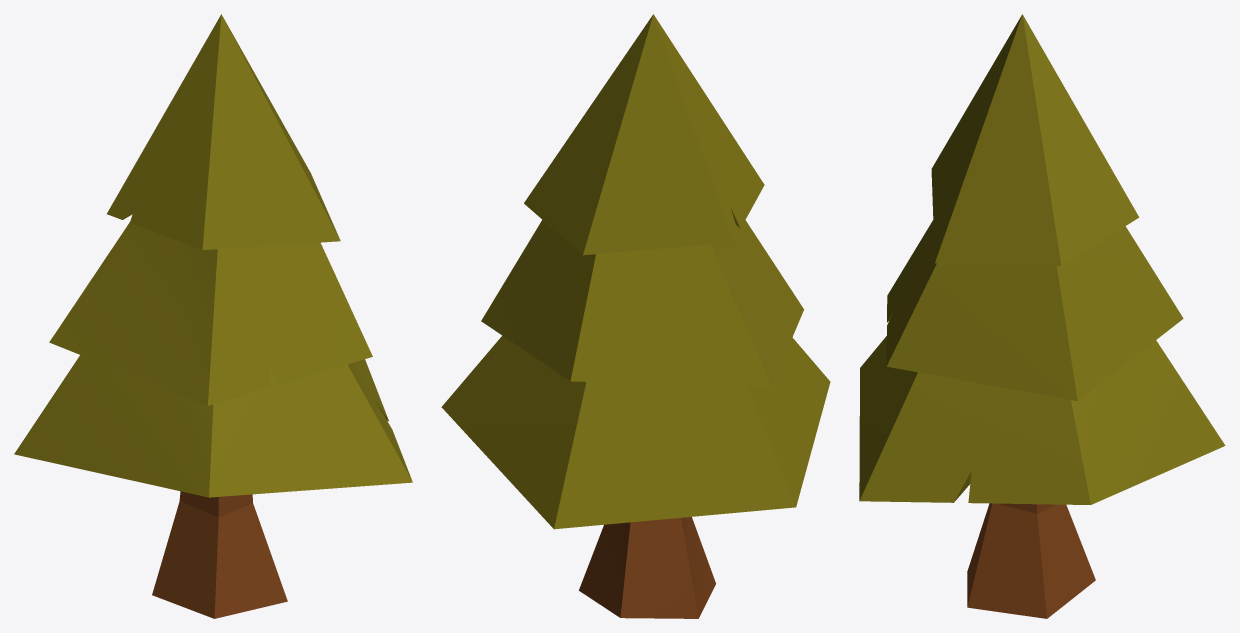
File: PineTree2.fbx
3 renders of one model, left to right at view 1: azimuth 30°, elevation 25°; view 2: azimuth 150°, elevation 25°; view 3: azimuth 270°, elevation 25°, orthographic.
Parts seen in each view (by area): view 1: PineTree2; view 2: PineTree2; view 3: PineTree2.
Part boxes in pixels (x1=…): PineTree2: x1=14, y1=14, x2=412, y2=618; PineTree2: x1=441, y1=14, x2=830, y2=618; PineTree2: x1=859, y1=14, x2=1225, y2=618.
Size of the model in its own units: 202 by 319 by 184.
